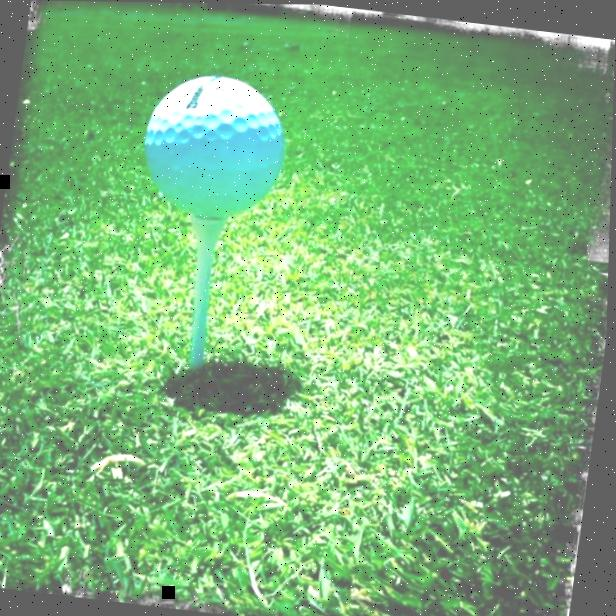GolfBall: (113, 55, 306, 233)
